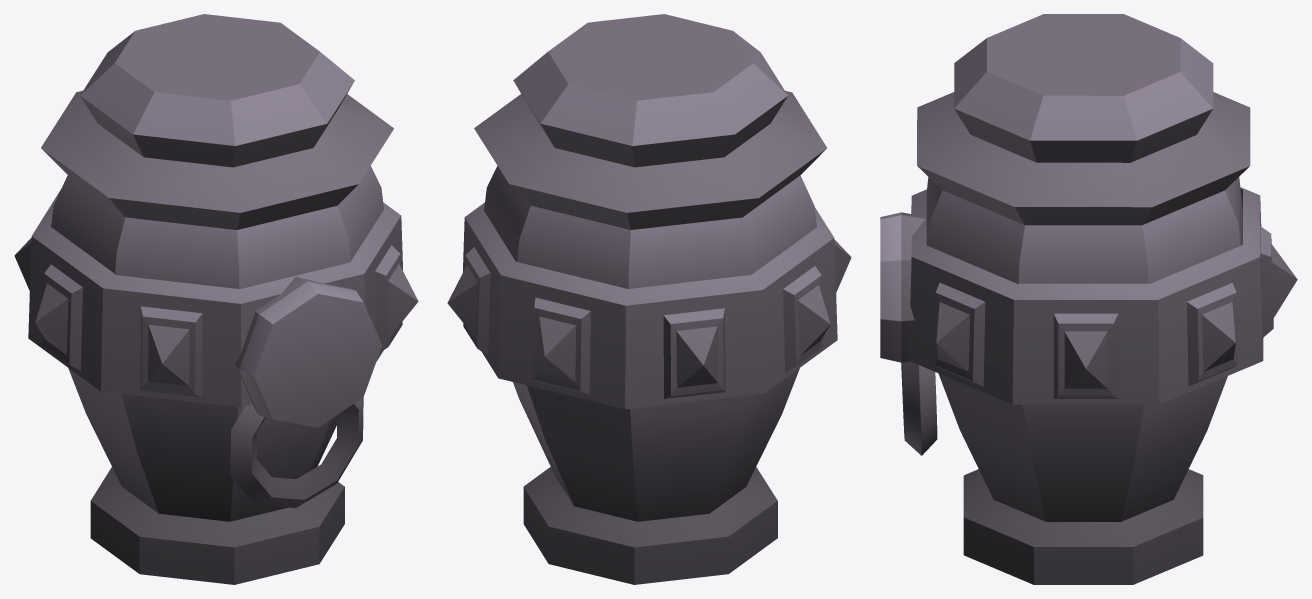
Rendered from urn_1.glb.
3 renders of one model, left to right at view 1: azimuth 30°, elevation 25°; view 2: azimuth 150°, elevation 25°; view 3: azimuth 270°, elevation 25°, orthographic.
Visible parts, largest first — view 1: urn_1; view 2: urn_1; view 3: urn_1.
Part boxes in pixels (x1,y1,x2,y2): urn_1: (14, 14, 418, 584); urn_1: (447, 14, 851, 584); urn_1: (880, 14, 1297, 584).
Bounding box in the file's own units: 0.7702 × 0.9622 × 0.7595.
Materials: 1 (1 with a texture image).
